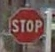stop: (8, 6, 44, 44)
